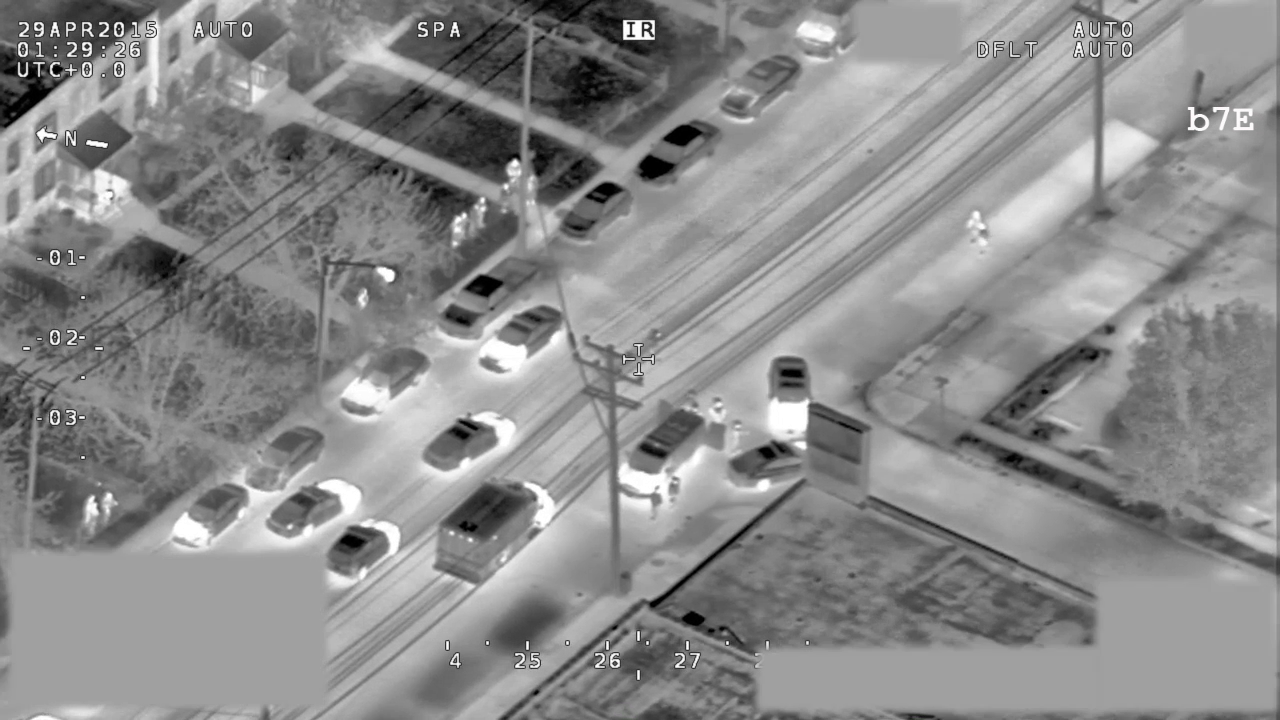vehicle: (429, 479, 556, 583), (614, 399, 726, 498), (436, 255, 545, 343), (265, 471, 364, 546), (418, 407, 521, 478), (342, 345, 434, 419), (633, 120, 729, 190), (477, 304, 564, 378), (717, 53, 804, 125), (169, 480, 253, 553), (240, 424, 328, 490), (557, 181, 639, 246), (324, 515, 403, 581), (728, 436, 808, 490), (795, 1, 860, 64), (767, 353, 812, 436)
